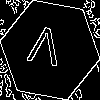V: (25, 25, 63, 76)
